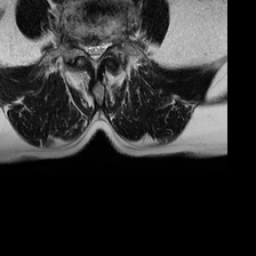CCS_normal: (91, 36, 98, 70)
LFS_stenosis: (106, 32, 114, 53)
LLS_normal: (98, 36, 106, 63)
RFS_stenosis: (76, 31, 83, 55)
RLS_normal: (83, 35, 91, 62)
